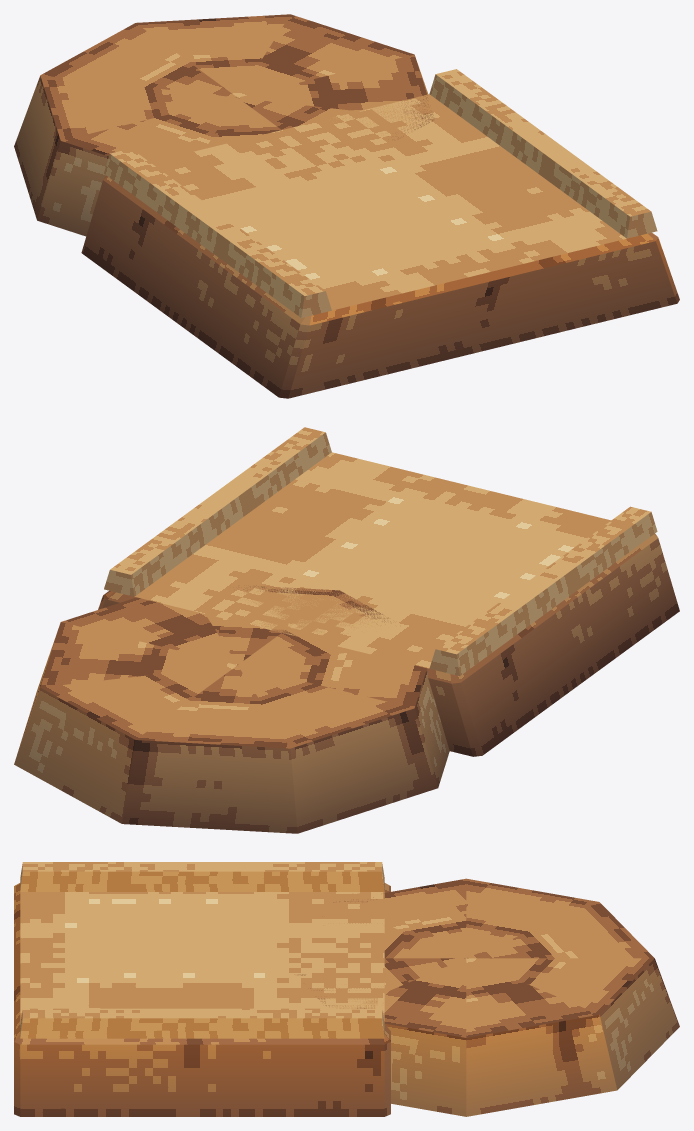
Rendered from land.causeway__end.glb.
3 renders of one model, top to bottom at view 1: azimuth 30°, elevation 25°; view 2: azimuth 150°, elevation 25°; view 3: azimuth 270°, elevation 25°, orthographic. The views are drawn at different scales.
Parts seen in each view (by area): view 1: kit_deck, kit_terminus, kit_kerbs; view 2: kit_terminus, kit_deck, kit_kerbs; view 3: kit_deck, kit_terminus, kit_kerbs.
Boxes of the visible parts, x1,y1,x2,y2 form: kit_deck: (81,94,679,398); kit_terminus: (14,14,434,236); kit_kerbs: (104,69,657,317); kit_terminus: (14,585,449,833); kit_deck: (98,452,679,756); kit_kerbs: (104,427,657,675); kit_deck: (14,883,390,1116); kit_terminus: (294,878,679,1116); kit_kerbs: (20,862,384,1038).
Bounding box in the file's own units: 3.4 × 0.76 × 5.3.
Materials: 3 (3 with a texture image).
